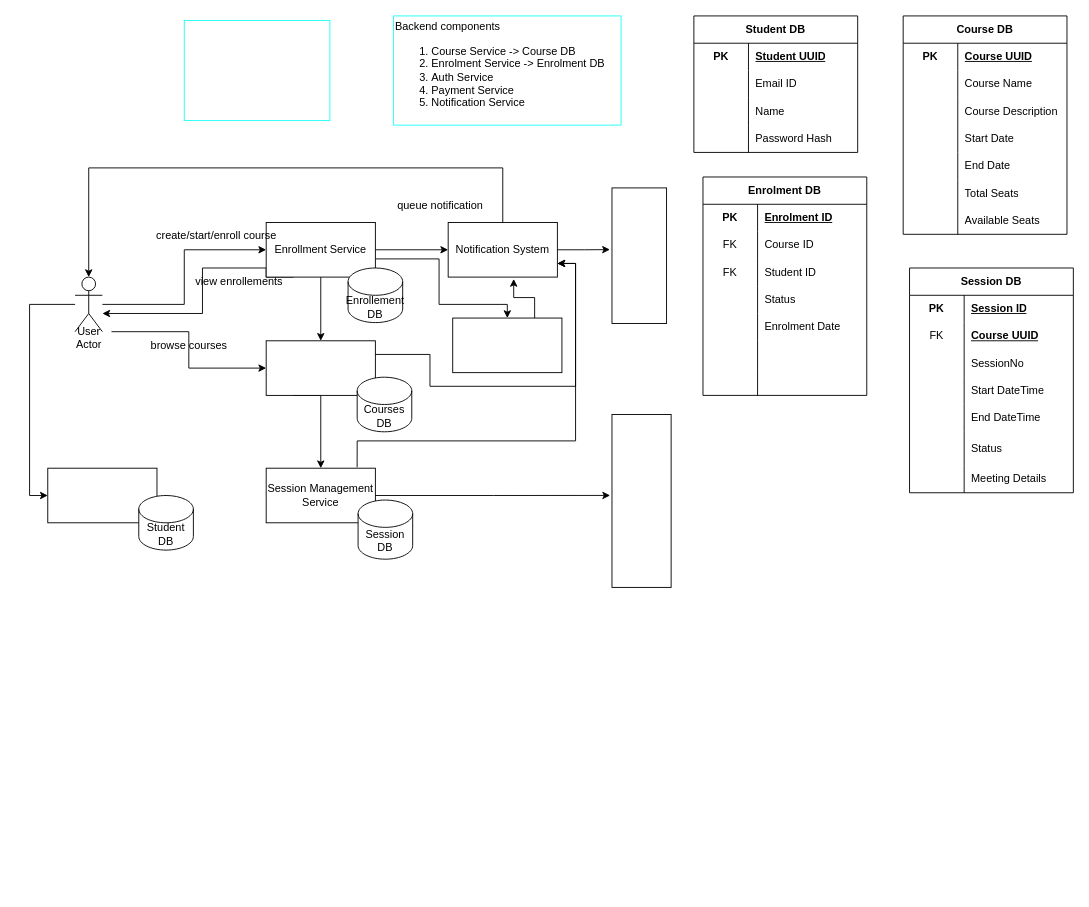
Some shapes in this 1089 by 907 pixel diagram are drawn without their labels. The centre of each missing label's shape, as x and y in pixels:
"Auth Service" belongs at (102,495).
"Course Management Service" belongs at (320,367).
"Course UI components Course listings Course dashboard Checkout Login" belongs at (256,70).
"External services taking care of creating meeting IDs" belongs at (641,500).
"Payment Management System" belongs at (507,345).
"Services like twilio or SES for sending messages" belongs at (639,255).
